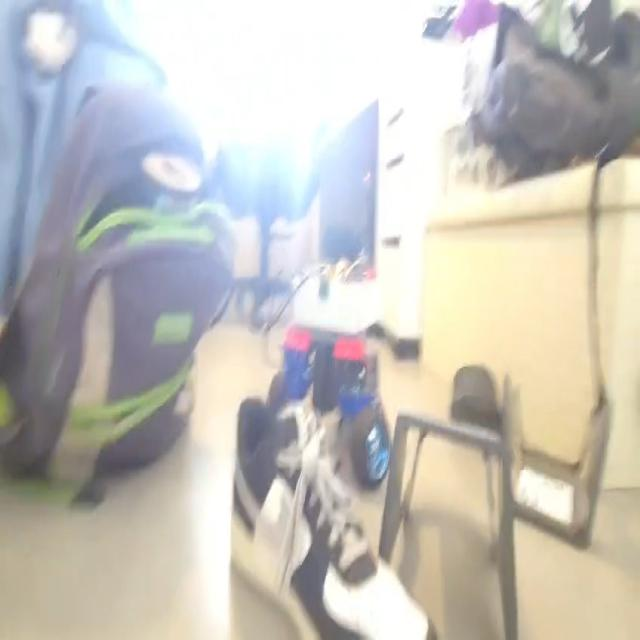Robot: (266, 263, 392, 488)
